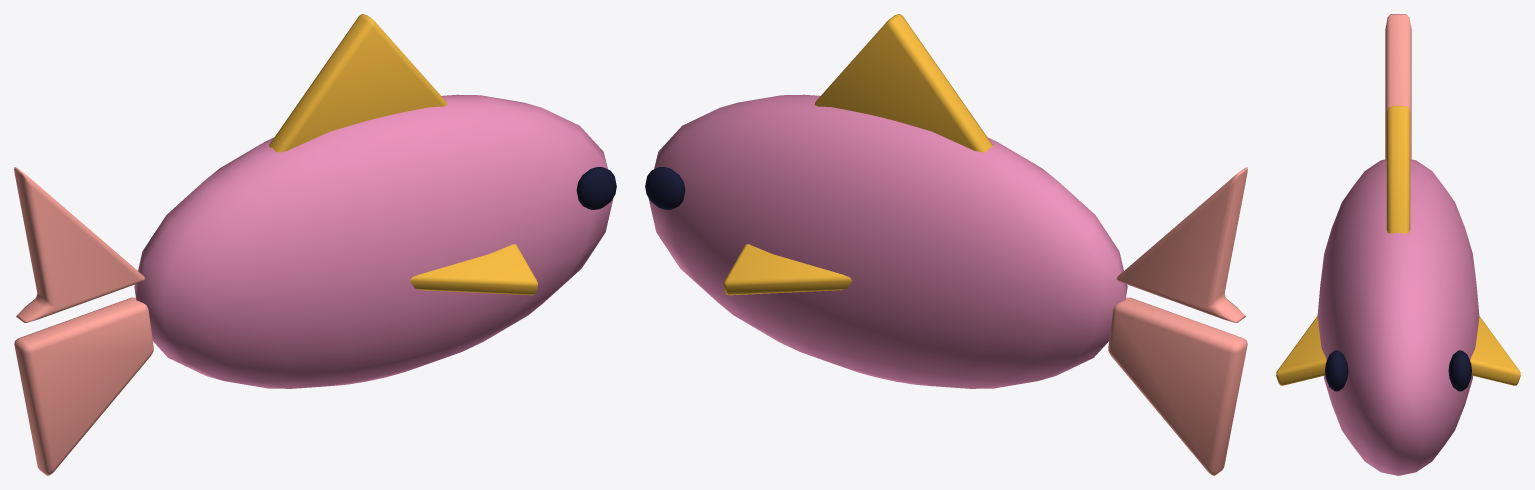
File: r087_development_undersea_additions_undersea_04.glb
3 renders of one model, left to right at view 1: azimuth 30°, elevation 25°; view 2: azimuth 150°, elevation 25°; view 3: azimuth 270°, elevation 25°, orthographic. The views are drawn at different scales.
Parts seen in each view (by area): view 1: r087_development_undersea_additions_undersea_04.001; view 2: r087_development_undersea_additions_undersea_04.001; view 3: r087_development_undersea_additions_undersea_04.001.
Boxes of the visible parts, <box> form: r087_development_undersea_additions_undersea_04.001: <box>14,14,616,475</box>; r087_development_undersea_additions_undersea_04.001: <box>645,14,1247,475</box>; r087_development_undersea_additions_undersea_04.001: <box>1276,14,1520,475</box>.
Size of the model in its own units: 4.24 by 2.58 by 1.66.
